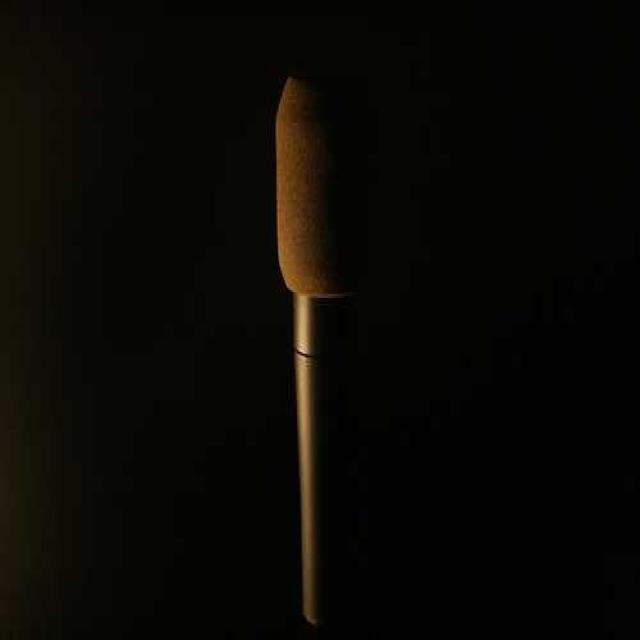microphone: (268, 69, 366, 631)
